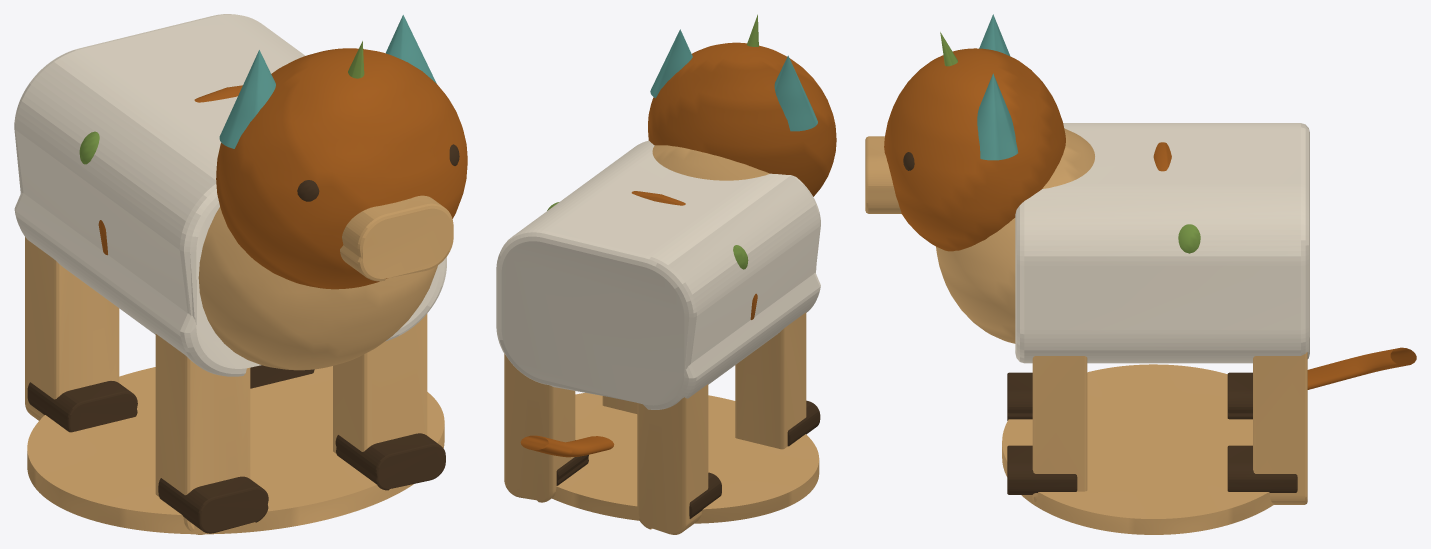
The model's file is 0313_古生代动物图鉴_怪诞虫.glb.
The picture shows the model from 3 angles, left to right: view 1: azimuth 30°, elevation 25°; view 2: azimuth 150°, elevation 25°; view 3: azimuth 270°, elevation 25°; orthographic projection. The views are drawn at different scales.
Visible parts, largest first — view 1: card_0313; view 2: card_0313; view 3: card_0313.
Boxes of the visible parts, bbox=[...] form: card_0313: bbox=[14, 14, 467, 534]; card_0313: bbox=[496, 14, 836, 534]; card_0313: bbox=[865, 14, 1416, 534].
Bounding box in the file's own units: 0.7714 × 1 × 1.16.
